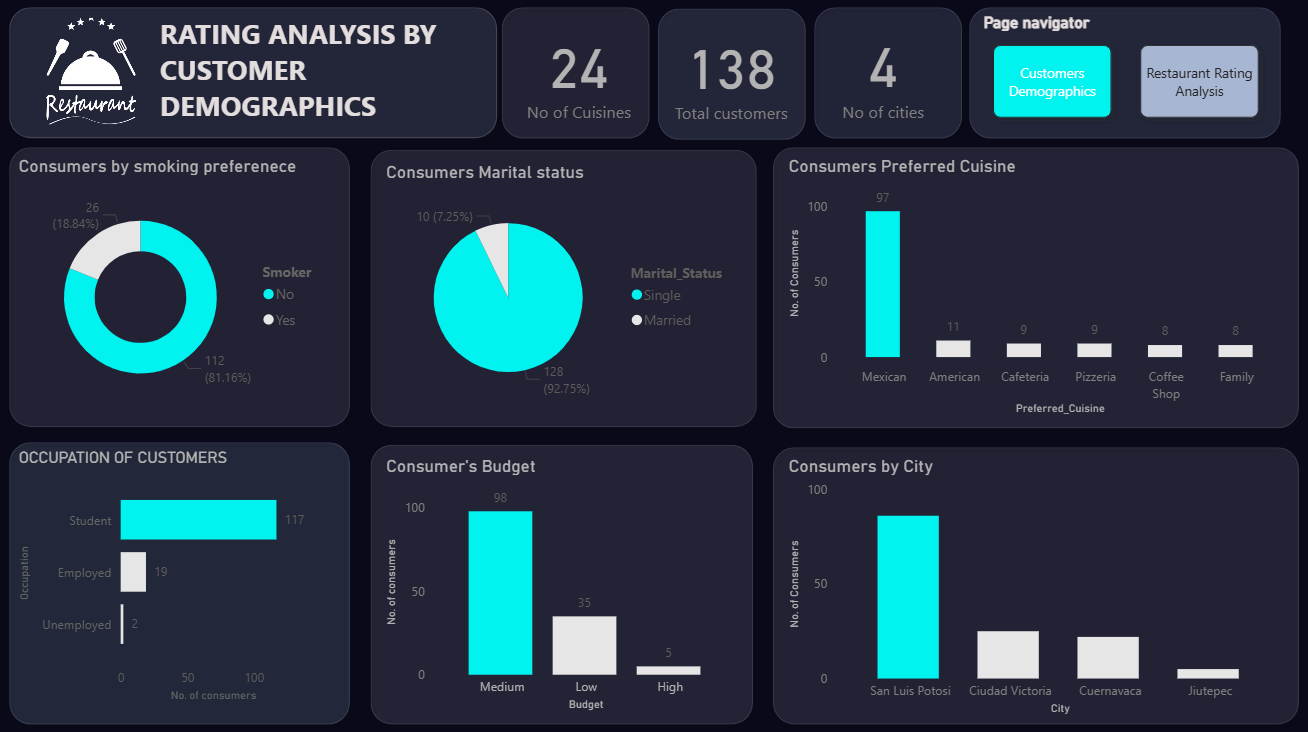

The page's visual inventory and layout, read from the dashboard file:
{"tool":"powerbi","page":{"name":"Customers Demographics","canvas":[1280,720],"ordinal":0},"visuals":[{"type":"shape","box":[0,0,495.3,146.1],"z":0},{"type":"shape","box":[481.6,0,162.6,146.5],"z":1000},{"type":"shape","box":[939.7,0,322.7,146.5],"z":2000},{"type":"shape","box":[0,136.5,351.3,291.7],"z":3000},{"type":"shape","box":[634.3,1.2,162.6,146.5],"z":4000},{"type":"shape","box":[747.3,430.7,532.5,289.2],"z":5000},{"type":"shape","box":[787,0,162.6,146.5],"z":6000},{"type":"shape","box":[353.8,428.2,392.2,291.7],"z":7000},{"type":"shape","box":[0,425.8,351.3,294.2],"z":8000},{"type":"shape","box":[747.3,136.5,532.5,292.9],"z":9000},{"type":"columnChart","title":"Consumers Preferred Cuisine","fields":{"Category":["Rating_analysis.Preferred_Cuisine"],"Y":["Count(Rating_analysis.Consumer_ID)"]},"box":[767.1,153.9,494,258.2],"z":10000},{"type":"barChart","title":"OCCUPATION OF CUSTOMERS ","fields":{"Category":["Rating_analysis.Occupation"],"Y":["Count(Rating_analysis.Consumer_ID)"]},"box":[13.7,440.7,301.6,253.2],"z":11000},{"type":"donutChart","title":"Consumers by smoking preferenece","fields":{"Category":["Rating_analysis.Smoker"],"Y":["Count(Rating_analysis.Consumer_ID)"]},"box":[13.7,153.9,315.3,258.2],"z":12000},{"type":"pageNavigator","title":"Page navigator","box":[962,14.9,279.3,111.7],"z":13000},{"type":"card","fields":{"Values":["Rating_analysis.Total customers"]},"box":[644.2,21.1,142.7,105.5],"z":14000},{"type":"card","fields":{"Values":["Rating_analysis.No of Cuisines"]},"box":[495.3,19.9,142.7,106.8],"z":15000},{"type":"card","fields":{"Values":["Rating_analysis.No of cities"]},"box":[804.4,18.6,119.2,108],"z":16000},{"type":"textbox","box":[151.7,11.1,329.7,126.6],"z":17000},{"type":"columnChart","title":"Consumer''s  Budget","fields":{"Category":["Rating_analysis.Budget"],"Y":["Count(Rating_analysis.Consumer_ID)"]},"box":[372.4,448.1,353.8,254.5],"z":18000},{"type":"shape","box":[353.8,139,396,289.2],"z":19000},{"type":"columnChart","title":"Consumers by City","fields":{"Category":["Rating_analysis.C_City"],"Y":["Count(Rating_analysis.Consumer_ID)"]},"box":[767.1,448.1,494,258.2],"z":20000},{"type":"pieChart","title":"Consumers Marital status","fields":{"Category":["Rating_analysis.Marital_Status"],"Y":["Count(Rating_analysis.Consumer_ID)"]},"box":[372.4,160.1,353.8,247],"z":21000},{"type":"image","box":[19.3,14.5,138.7,113.4],"z":22000}]}

Visuals, with their boxes in screenshot pixels (x1, y1, x2, y2), scaled from the page's 1280x720 canvas onto the 1308x732 screenshot:
shape: box(0, 0, 506, 149)
shape: box(492, 0, 658, 149)
shape: box(960, 0, 1290, 149)
shape: box(0, 139, 359, 435)
shape: box(648, 1, 814, 150)
shape: box(764, 438, 1307, 731)
shape: box(804, 0, 970, 149)
shape: box(362, 435, 762, 731)
shape: box(0, 433, 359, 731)
shape: box(764, 139, 1307, 437)
"Consumers Preferred Cuisine" columnChart: box(784, 156, 1289, 419)
"OCCUPATION OF CUSTOMERS " barChart: box(14, 448, 322, 705)
"Consumers by smoking preferenece" donutChart: box(14, 156, 336, 419)
"Page navigator" pageNavigator: box(983, 15, 1268, 129)
card - Rating_analysis.Total customers: box(658, 21, 804, 129)
card - Rating_analysis.No of Cuisines: box(506, 20, 652, 129)
card - Rating_analysis.No of cities: box(822, 19, 944, 129)
textbox: box(155, 11, 492, 140)
"Consumer''s  Budget" columnChart: box(381, 456, 742, 714)
shape: box(362, 141, 766, 435)
"Consumers by City" columnChart: box(784, 456, 1289, 718)
"Consumers Marital status" pieChart: box(381, 163, 742, 414)
image: box(20, 15, 161, 130)
